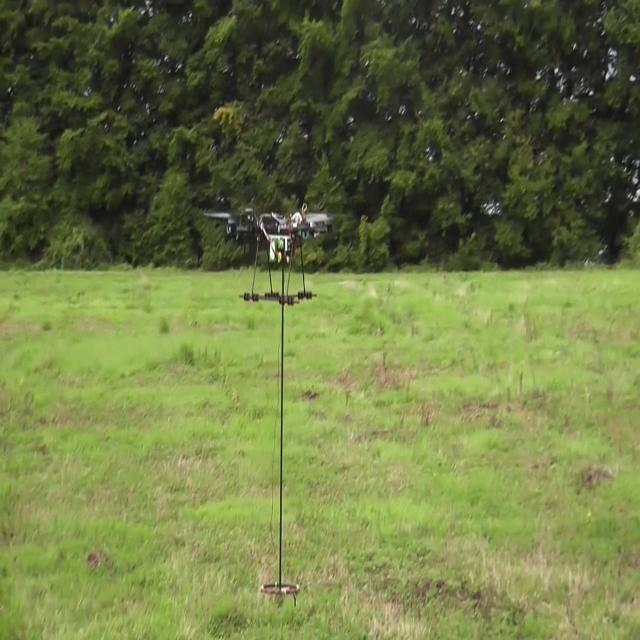UAV: (203, 202, 349, 306)
